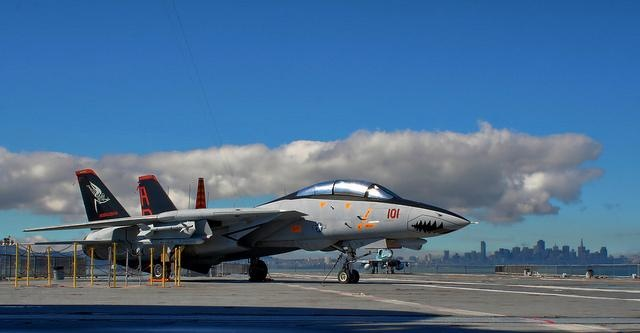airplane: (17, 164, 477, 279)
